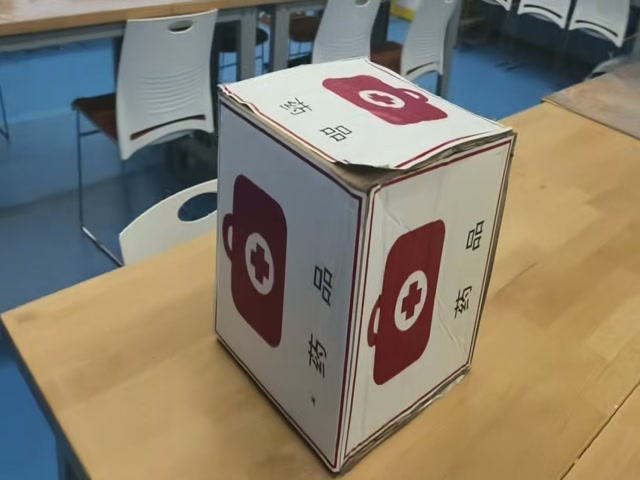Cube_medicine: (217, 60, 518, 169)
